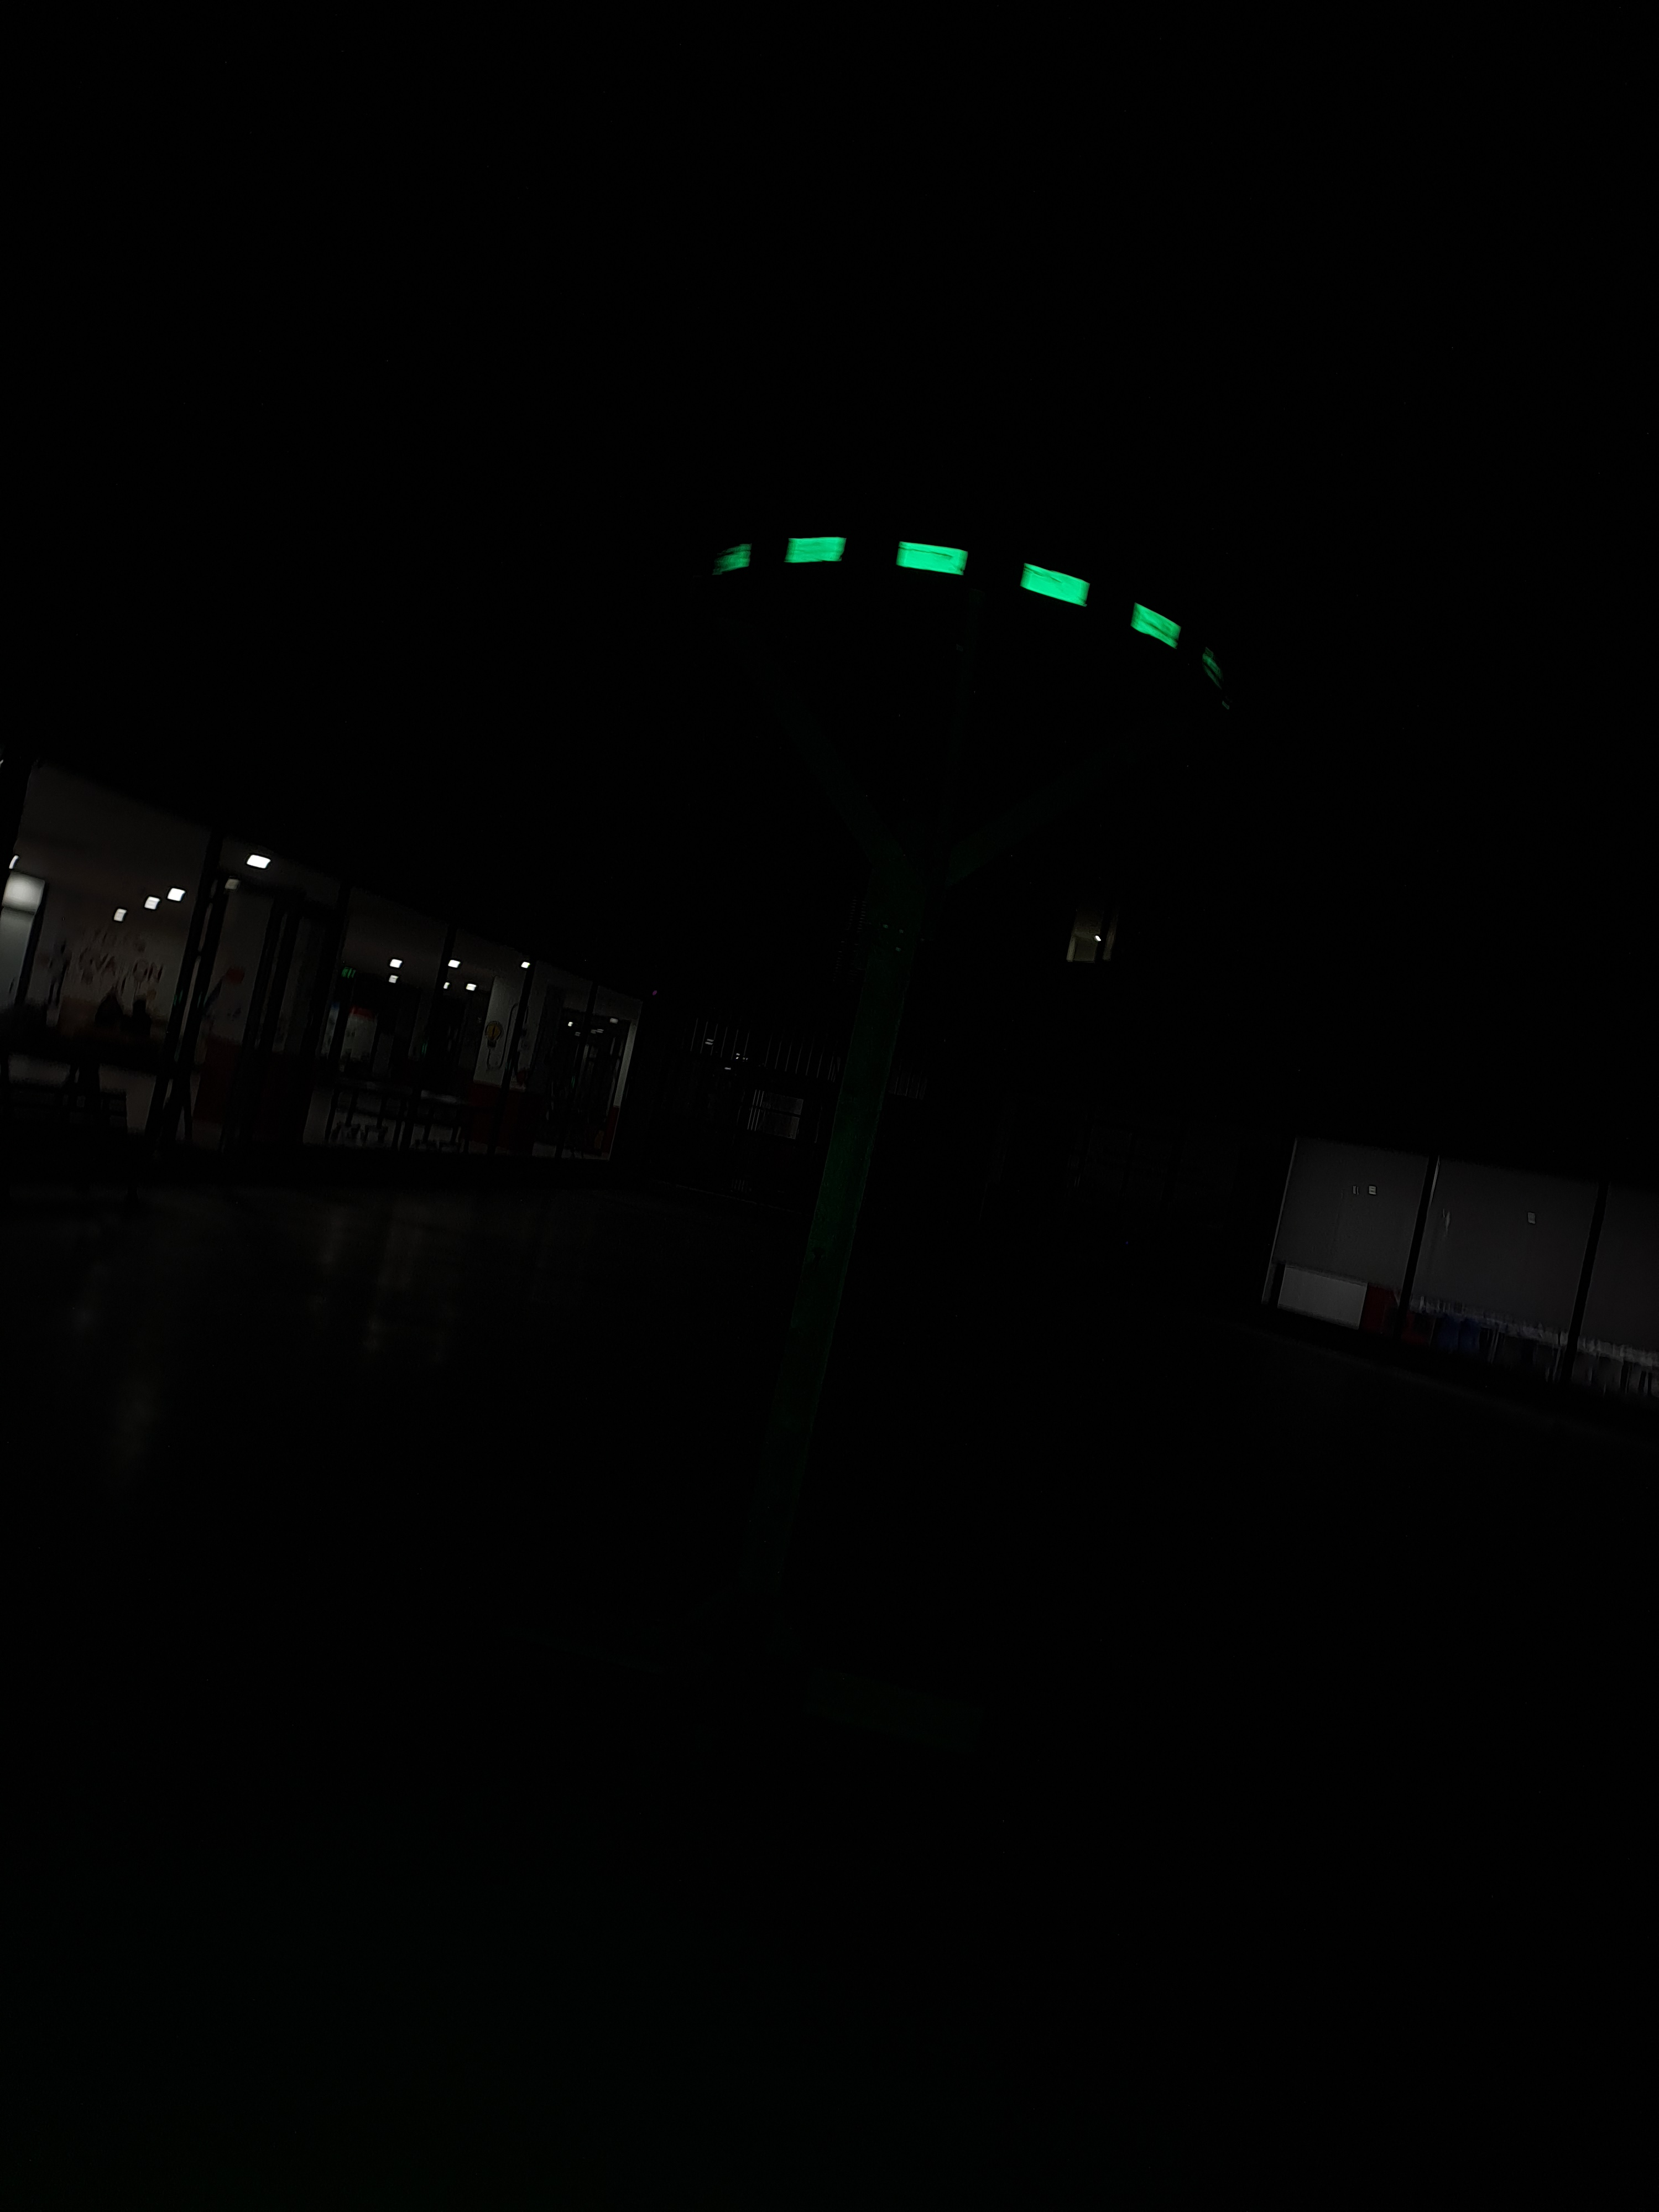hoop: (716, 516, 1182, 671)
